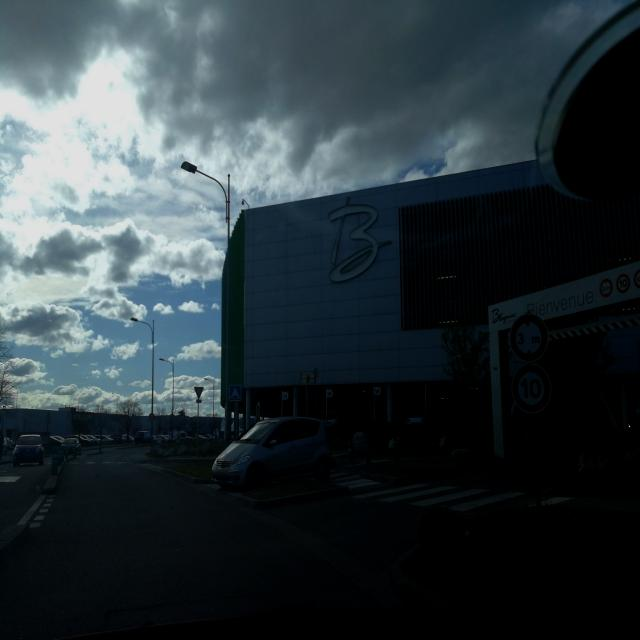car: (212, 415, 334, 492), (12, 433, 45, 467), (404, 408, 433, 428), (62, 438, 82, 458), (134, 430, 153, 446), (79, 434, 93, 446)
